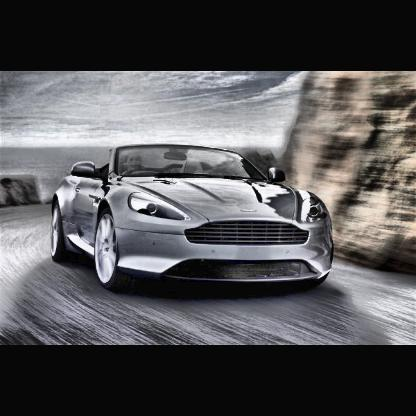Aston Martin Virage Convertible 2012: (53, 145, 336, 292)
